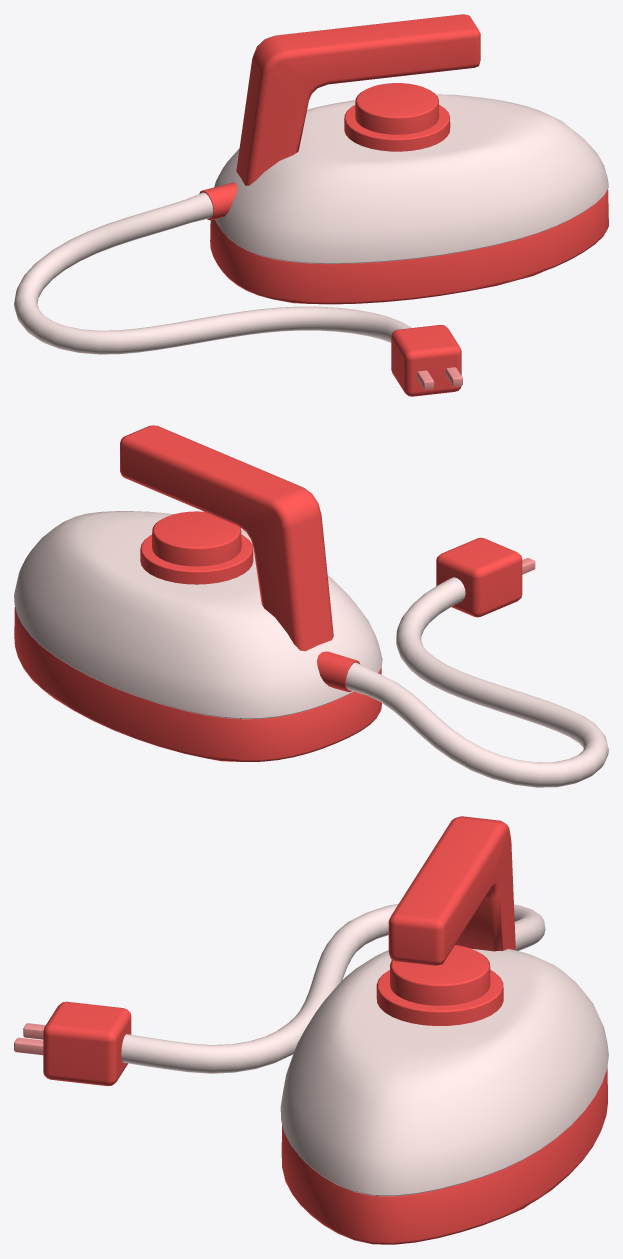
Rendered from Public_19_Iron_1.glb.
3 views of the same model, one above another, from view 1: azimuth 30°, elevation 25°; view 2: azimuth 150°, elevation 25°; view 3: azimuth 270°, elevation 25° (orthographic). The views are drawn at different scales.
Parts seen in each view (by area): view 1: Public_19_Iron_1; view 2: Public_19_Iron_1; view 3: Public_19_Iron_1.
Part boxes in pixels (left/top/right/bottom): Public_19_Iron_1: left=14, top=14, right=608, bottom=396; Public_19_Iron_1: left=14, top=425, right=608, bottom=787; Public_19_Iron_1: left=14, top=816, right=608, bottom=1244.
Size of the model in its own units: 0.7937 by 0.298 by 0.6141.
1 material, 1 textured.
